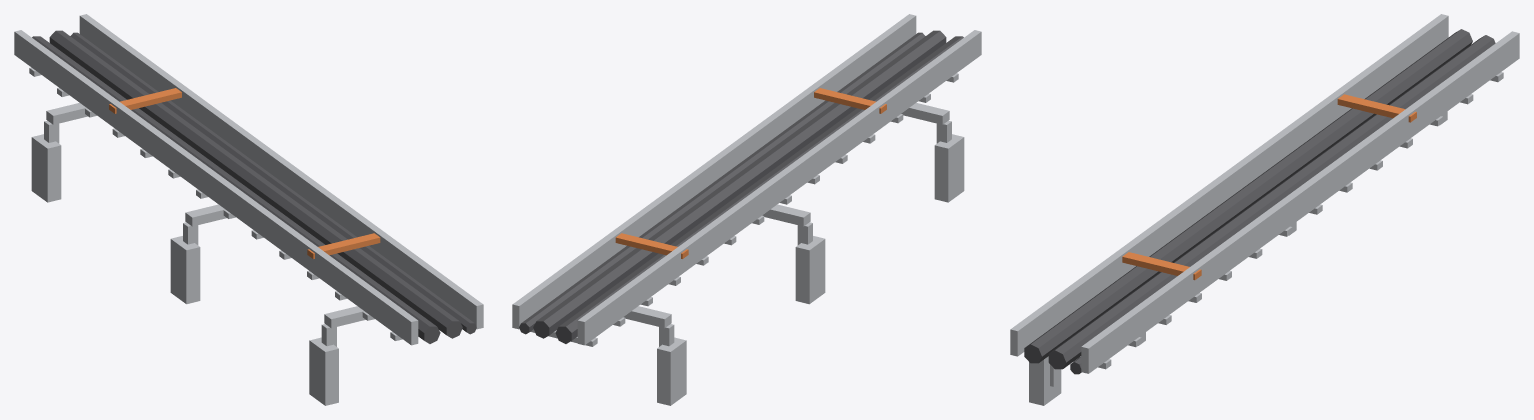
Rendered from underground-mine-and-shaft-works-cable-tray-run-35cbee03.glb.
The picture shows the model from 3 angles, left to right: view 1: azimuth 30°, elevation 25°; view 2: azimuth 150°, elevation 25°; view 3: azimuth 330°, elevation 25°; orthographic projection. The views are drawn at different scales.
Visible parts, largest first — view 1: cable-tray-run; view 2: cable-tray-run; view 3: cable-tray-run.
Boxes of the visible parts, <box> form: cable-tray-run: <box>14,14,483,405</box>; cable-tray-run: <box>512,14,981,405</box>; cable-tray-run: <box>1010,14,1519,405</box>.
Size of the model in its own units: 0.6301 by 0.6299 by 4.
